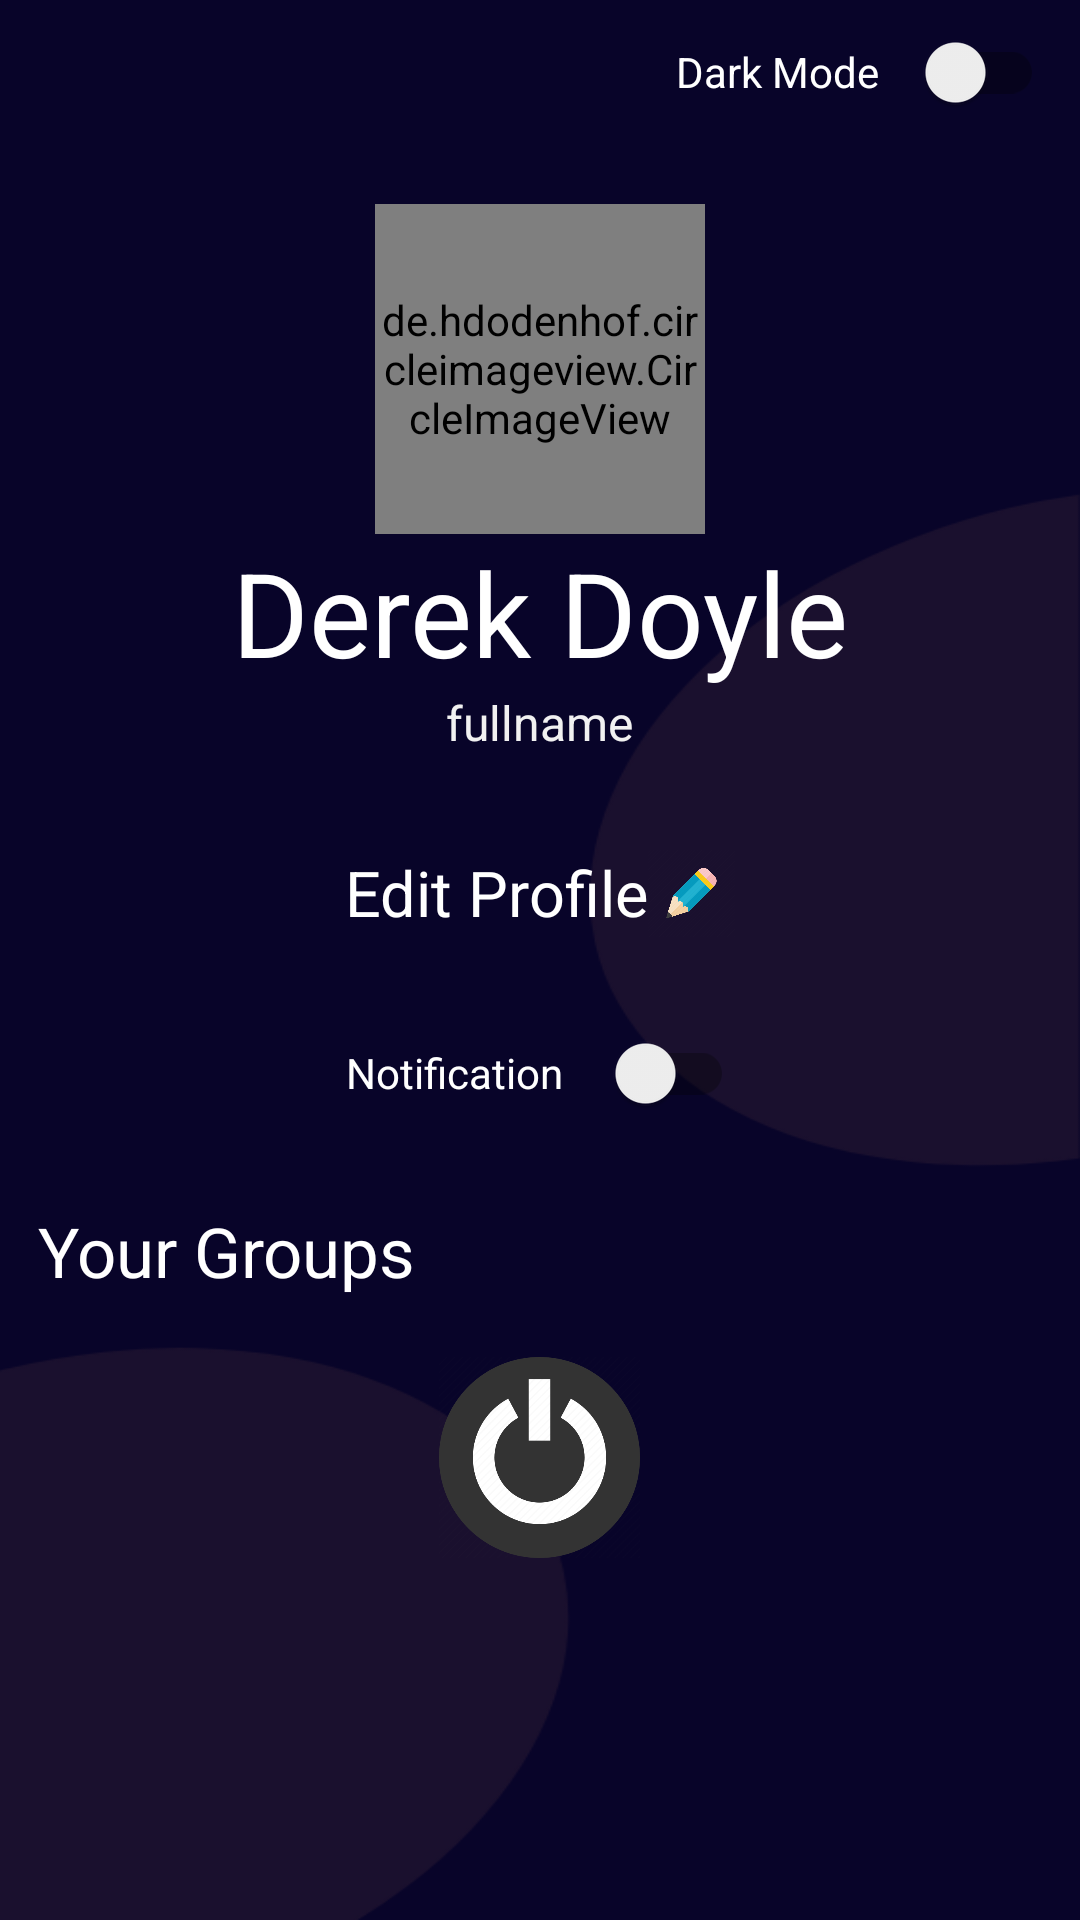

Icon click points for this 1080px×1920px phone screenshot, format [x,y]:
pencil: [691,893]
